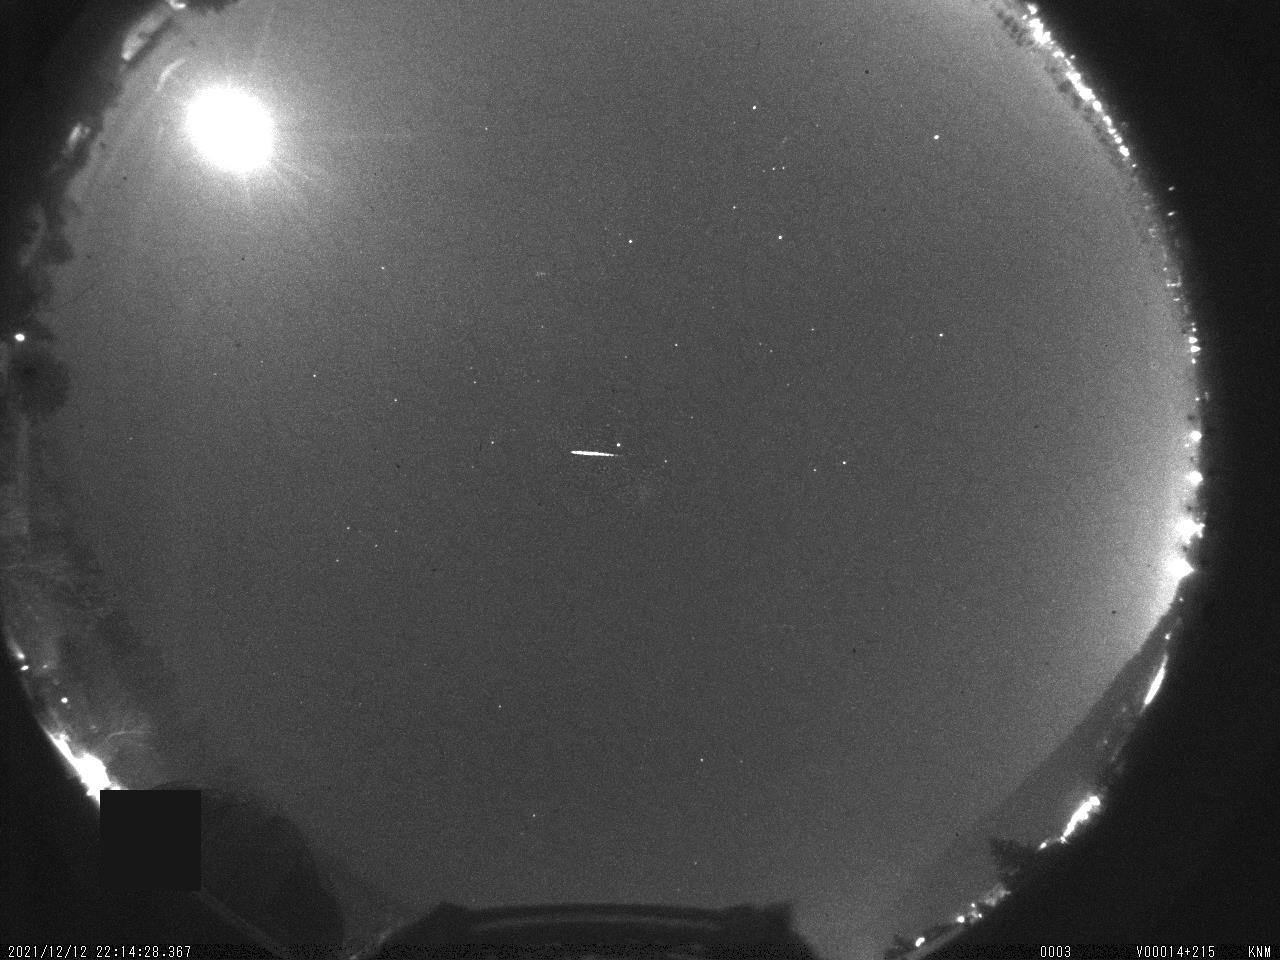meteor: (562, 441, 633, 468)
